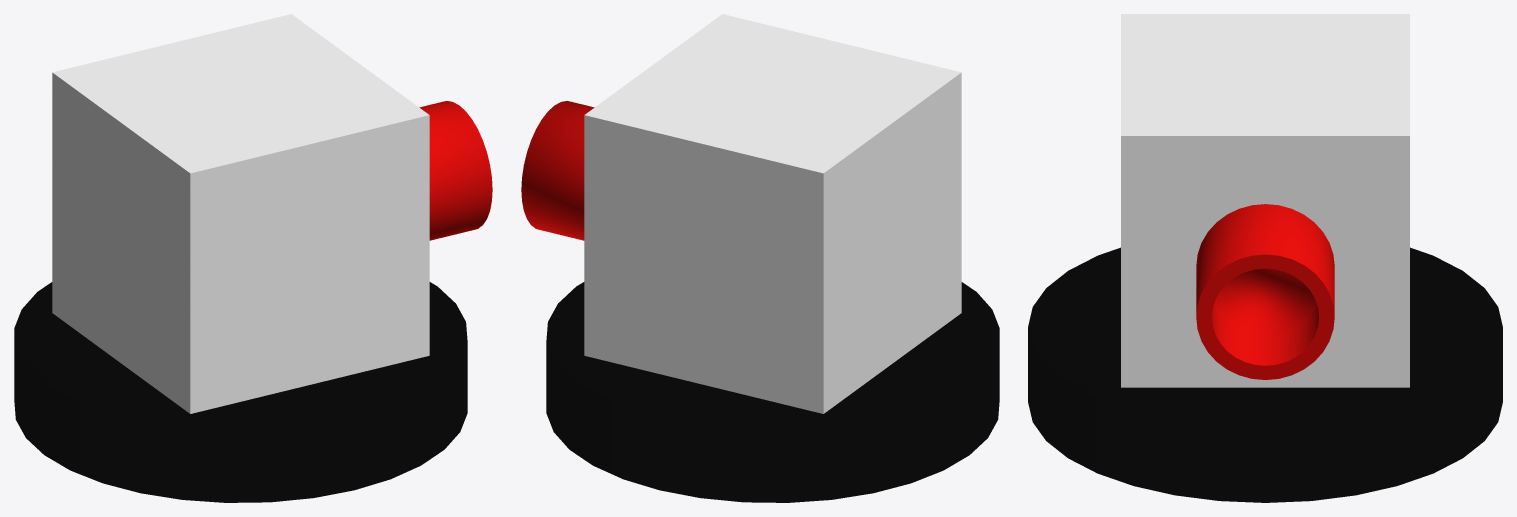
File: Laser.fbx
3 renders of one model, left to right at view 1: azimuth 30°, elevation 25°; view 2: azimuth 150°, elevation 25°; view 3: azimuth 270°, elevation 25°, orthographic. The views are drawn at different scales.
Visible parts, largest first — view 1: Cube, Cylinder.001, Cylinder; view 2: Cube, Cylinder.001, Cylinder; view 3: Cube, Cylinder.001, Cylinder.
Part boxes in pixels (x1,y1,x2,y2): Cube: (52,14,429,413); Cylinder.001: (14,282,467,502); Cylinder: (419,101,492,240); Cube: (584,14,961,413); Cylinder.001: (546,282,999,502); Cylinder: (521,101,594,240); Cube: (1121,14,1409,387); Cylinder.001: (1028,247,1502,502); Cylinder: (1196,204,1334,379).
Size of the model in its own units: 347 by 250 by 329.
